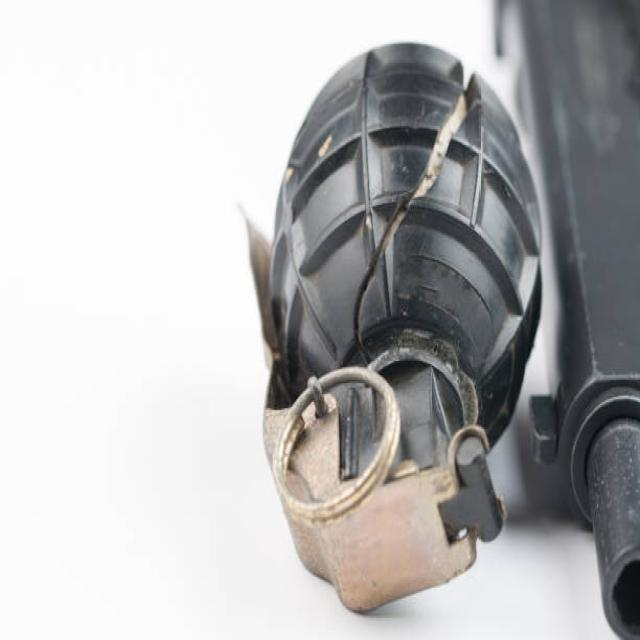grenade: (236, 37, 552, 622)
